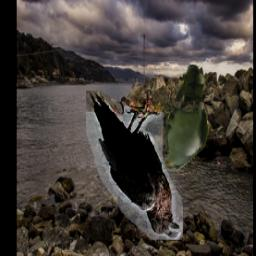Crow: (87, 91, 184, 240)
Cuckoo: (163, 65, 210, 171)
